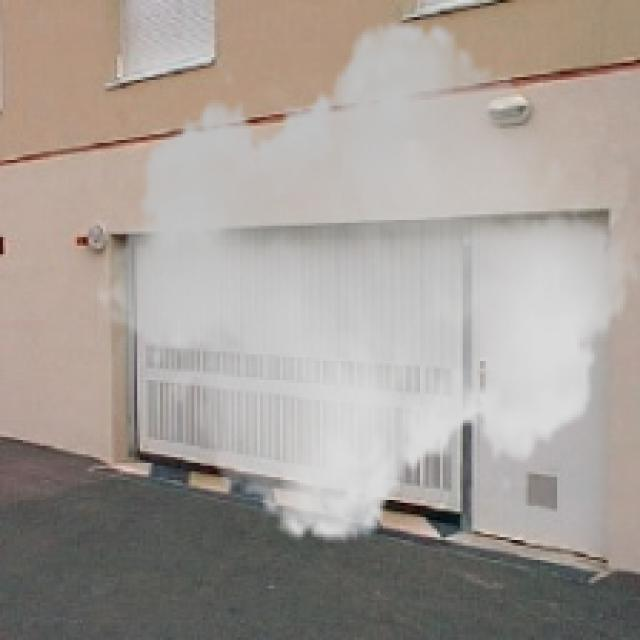smoke: (94, 0, 637, 566)
